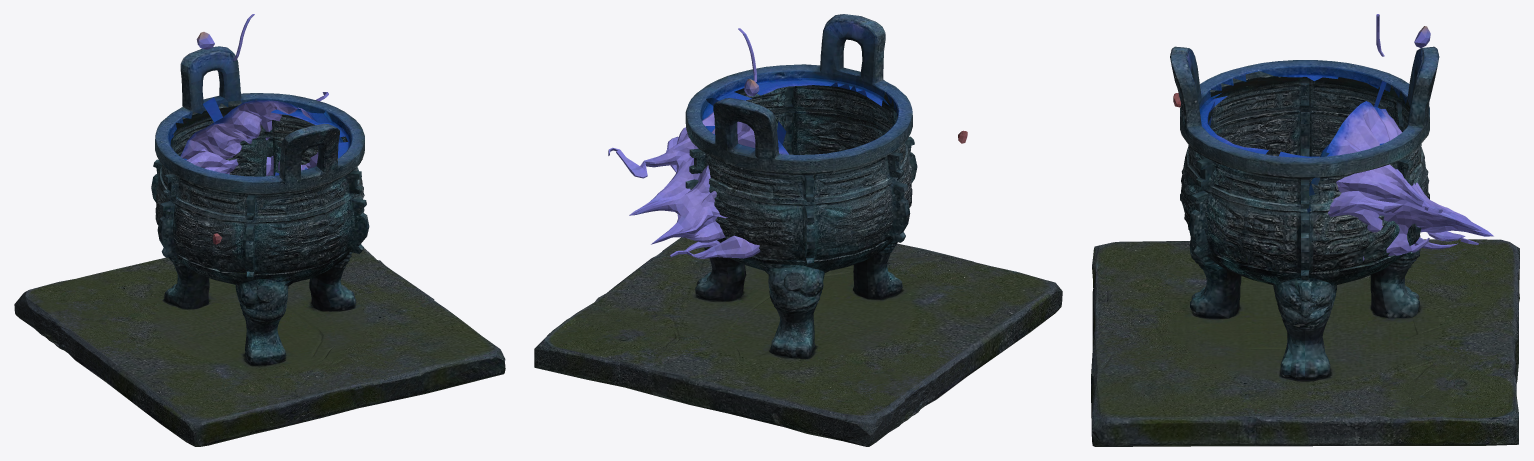
Rendered from bronze_cauldron.glb.
3 views of the same model, side by side, from view 1: azimuth 30°, elevation 25°; view 2: azimuth 150°, elevation 25°; view 3: azimuth 270°, elevation 25° (orthographic). The views are drawn at different scales.
Parts seen in each view (by area): view 1: tripo_part_14, tripo_part_12, tripo_part_7, tripo_part_13, tripo_part_6, tripo_part_21, tripo_part_1, tripo_part_10, tripo_part_16, tripo_part_11, tripo_part_2, tripo_part_3; view 2: tripo_part_14, tripo_part_12, tripo_part_7, tripo_part_13, tripo_part_16, tripo_part_1, tripo_part_21, tripo_part_10, tripo_part_6, tripo_part_11, tripo_part_19; view 3: tripo_part_14, tripo_part_12, tripo_part_7, tripo_part_13, tripo_part_10, tripo_part_6, tripo_part_16, tripo_part_21, tripo_part_1, tripo_part_9, tripo_part_2, tripo_part_11.
Part boxes in pixels (x1,y1,x2,y2): tripo_part_14: (14, 248, 505, 446); tripo_part_12: (154, 111, 364, 284); tripo_part_7: (155, 93, 364, 194); tripo_part_13: (180, 92, 343, 176); tripo_part_6: (235, 278, 293, 365); tripo_part_21: (180, 46, 241, 111); tripo_part_1: (279, 123, 339, 181); tripo_part_10: (309, 252, 356, 324); tripo_part_16: (164, 256, 209, 309); tripo_part_11: (157, 201, 176, 257); tripo_part_2: (350, 197, 369, 253); tripo_part_3: (242, 223, 254, 279); tripo_part_14: (534, 237, 1062, 446); tripo_part_12: (688, 85, 912, 272); tripo_part_7: (685, 55, 912, 174); tripo_part_13: (608, 97, 788, 259); tripo_part_16: (764, 265, 824, 358); tripo_part_1: (820, 14, 885, 87); tripo_part_21: (713, 98, 778, 160); tripo_part_10: (695, 247, 767, 300); tripo_part_6: (853, 241, 902, 299); tripo_part_11: (890, 181, 910, 242); tripo_part_19: (802, 209, 816, 266); tripo_part_14: (1091, 239, 1519, 446); tripo_part_12: (1180, 77, 1429, 285); tripo_part_7: (1180, 60, 1429, 177); tripo_part_13: (1307, 81, 1493, 260); tripo_part_10: (1254, 278, 1336, 379); tripo_part_6: (1190, 238, 1241, 318); tripo_part_16: (1370, 235, 1420, 318); tripo_part_21: (1407, 46, 1439, 127); tripo_part_1: (1170, 46, 1201, 127); tripo_part_9: (1296, 213, 1313, 279); tripo_part_2: (1188, 190, 1208, 257); tripo_part_11: (1298, 111, 1311, 156).
Bounding box in the file's own units: 0.9908 × 0.9148 × 0.9967.
Materials: 1 (1 with a texture image).
